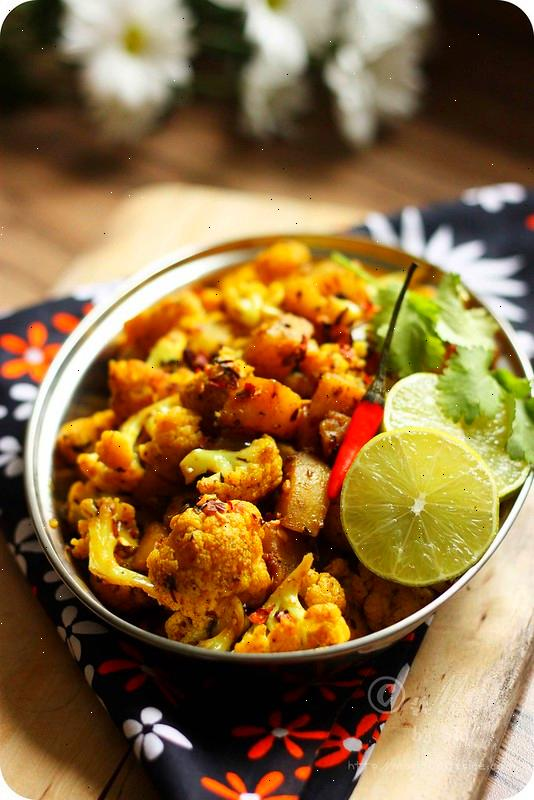aloo gobhi: (79, 269, 346, 627)
